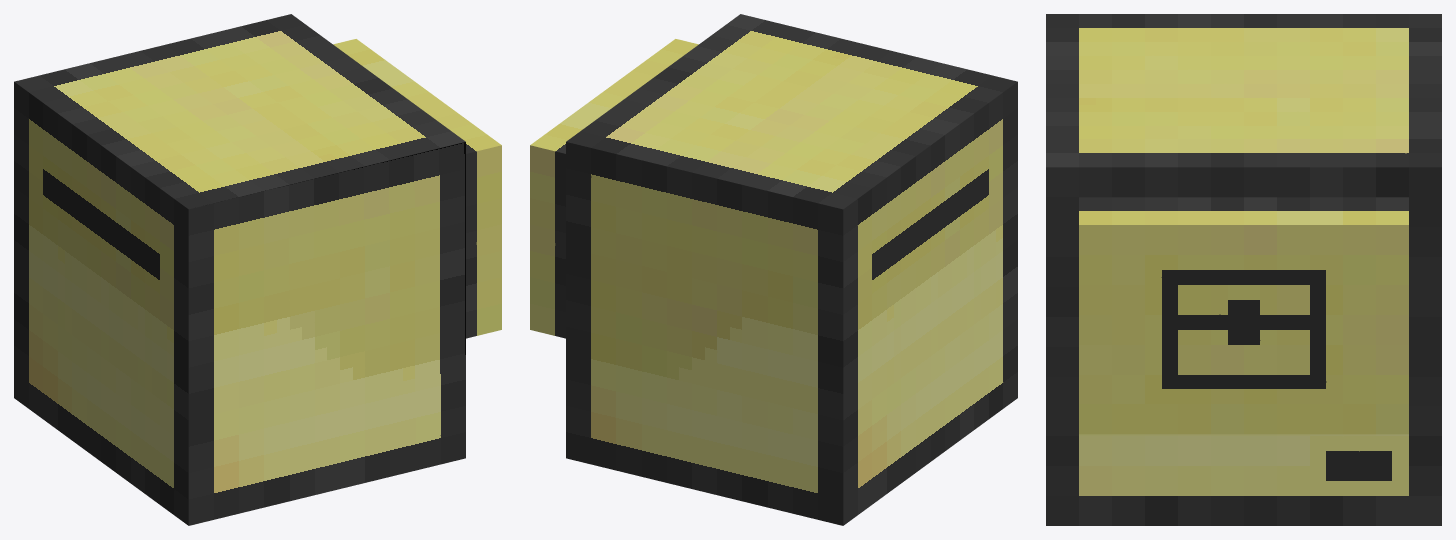
File: turtle.glb
3 views of the same model, side by side, from view 1: azimuth 30°, elevation 25°; view 2: azimuth 150°, elevation 25°; view 3: azimuth 270°, elevation 25° (orthographic). The views are drawn at different scales.
Parts seen in each view (by area): view 1: Cube; view 2: Cube; view 3: Cube.
Part boxes in pixels (bbox=[...]): Cube: bbox=[14, 14, 501, 525]; Cube: bbox=[530, 14, 1017, 525]; Cube: bbox=[1046, 14, 1441, 525].
Bounding box in the file's own units: 0.8125 × 0.75 × 0.75.
Materials: 7 (7 with a texture image).
